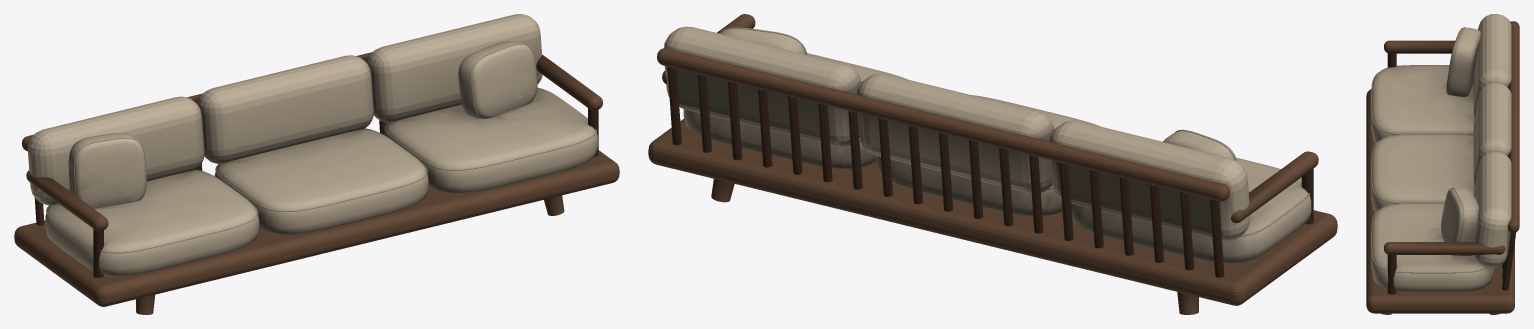
The model's file is platform-sofa.glb.
3 views of the same model, side by side, from view 1: azimuth 30°, elevation 25°; view 2: azimuth 150°, elevation 25°; view 3: azimuth 270°, elevation 25° (orthographic). The views are drawn at different scales.
Parts seen in each view (by area): view 1: platform-sofa; view 2: platform-sofa; view 3: platform-sofa.
Part boxes in pixels (x1,y1,x2,y2): platform-sofa: (14, 14, 619, 314); platform-sofa: (648, 14, 1337, 314); platform-sofa: (1366, 14, 1519, 314).
Size of the model in its own units: 3.32 by 0.8629 by 1.01.
